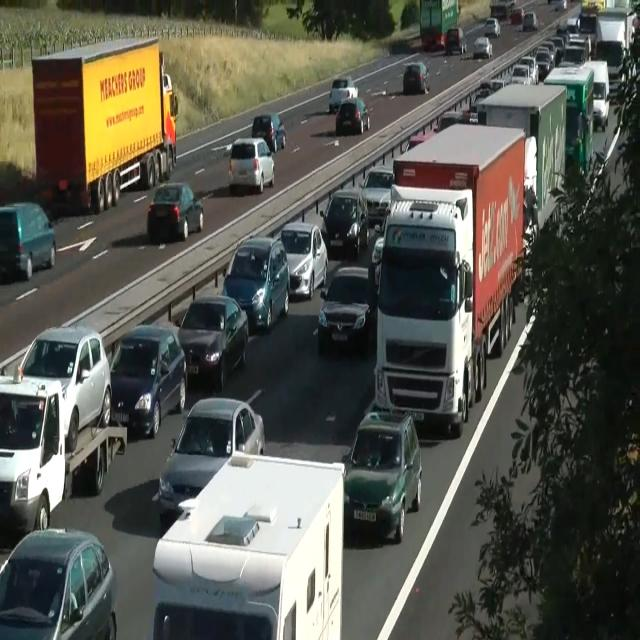bus: (152, 396, 265, 516), (0, 526, 118, 639), (15, 326, 112, 454), (340, 408, 422, 543), (109, 323, 187, 438), (177, 294, 249, 390), (222, 236, 290, 332), (317, 266, 375, 351), (0, 201, 56, 283), (276, 220, 328, 300), (146, 182, 204, 241), (320, 188, 369, 256), (227, 137, 275, 194), (360, 166, 394, 228), (251, 112, 286, 153), (335, 97, 370, 135), (328, 75, 358, 113), (467, 85, 493, 124), (368, 235, 384, 298), (402, 62, 430, 94), (433, 110, 467, 134), (558, 44, 586, 68), (533, 47, 553, 79), (445, 27, 467, 55), (519, 56, 539, 84), (507, 64, 533, 85), (404, 132, 428, 153), (539, 41, 557, 67), (473, 36, 493, 58), (484, 17, 500, 37), (630, 12, 640, 44), (550, 35, 564, 57), (522, 11, 538, 30), (508, 7, 524, 24), (554, 0, 568, 11)
jeep: (0, 374, 66, 532)
minibus: (374, 122, 526, 436), (151, 449, 345, 639), (31, 36, 178, 214), (0, 372, 127, 535), (476, 82, 566, 238), (543, 64, 595, 178), (419, 0, 460, 52), (160, 51, 178, 168)
